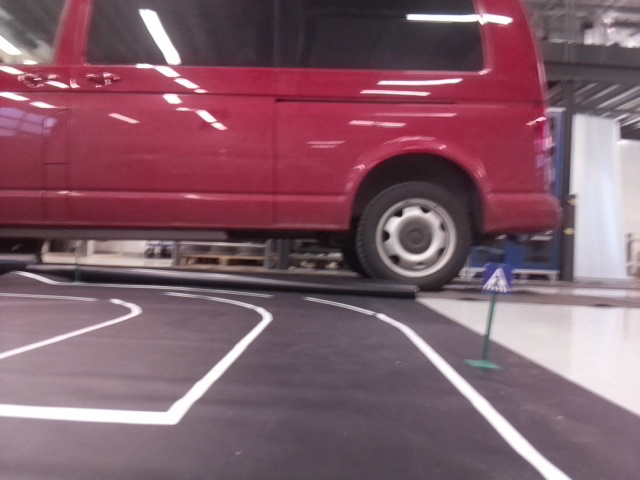Crosswalk: (484, 263, 512, 295)
